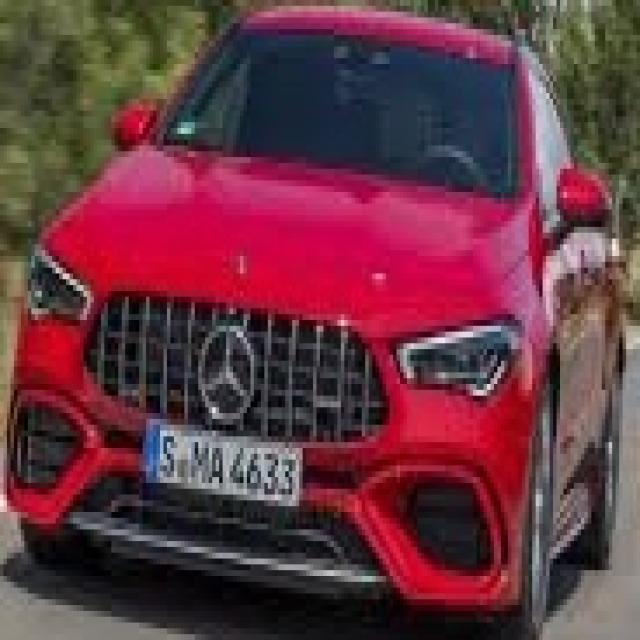red: (22, 0, 622, 640)
